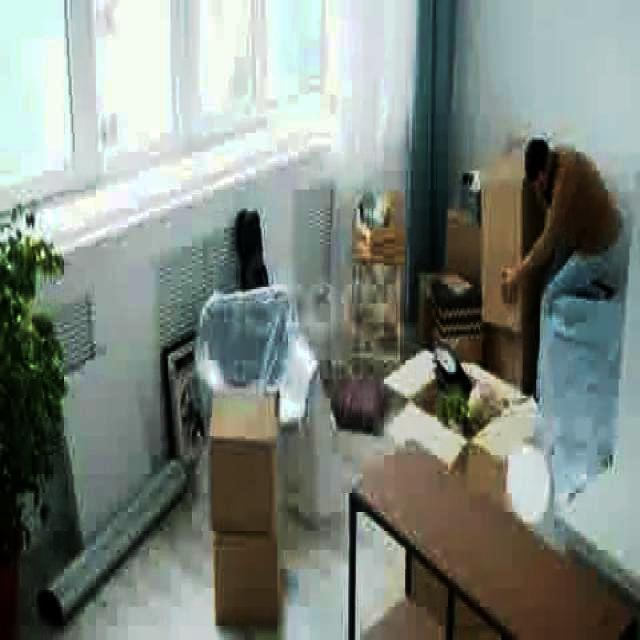Box: (205, 402, 279, 540), (213, 536, 291, 622)
